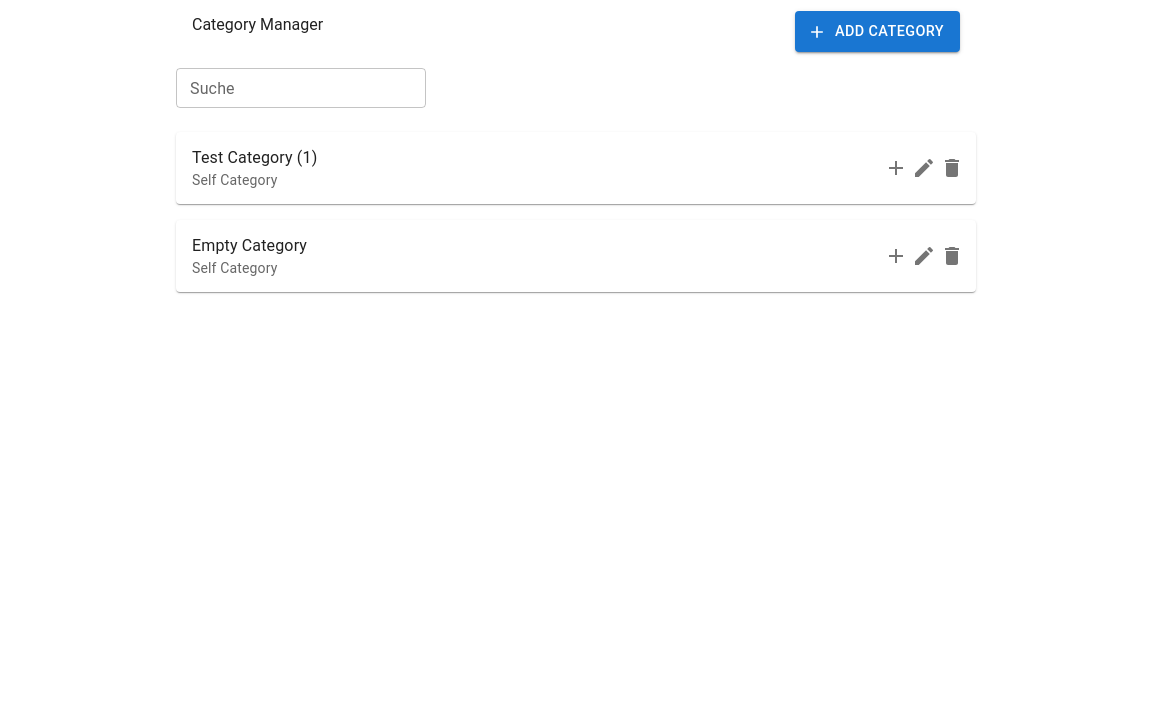
Scenario: CategoryManager › Renaming Categories and Items › should open edit dialog for category
Click the button with test id "EditIcon" at {"x": 924, "y": 168}, box [904,148,944,188]
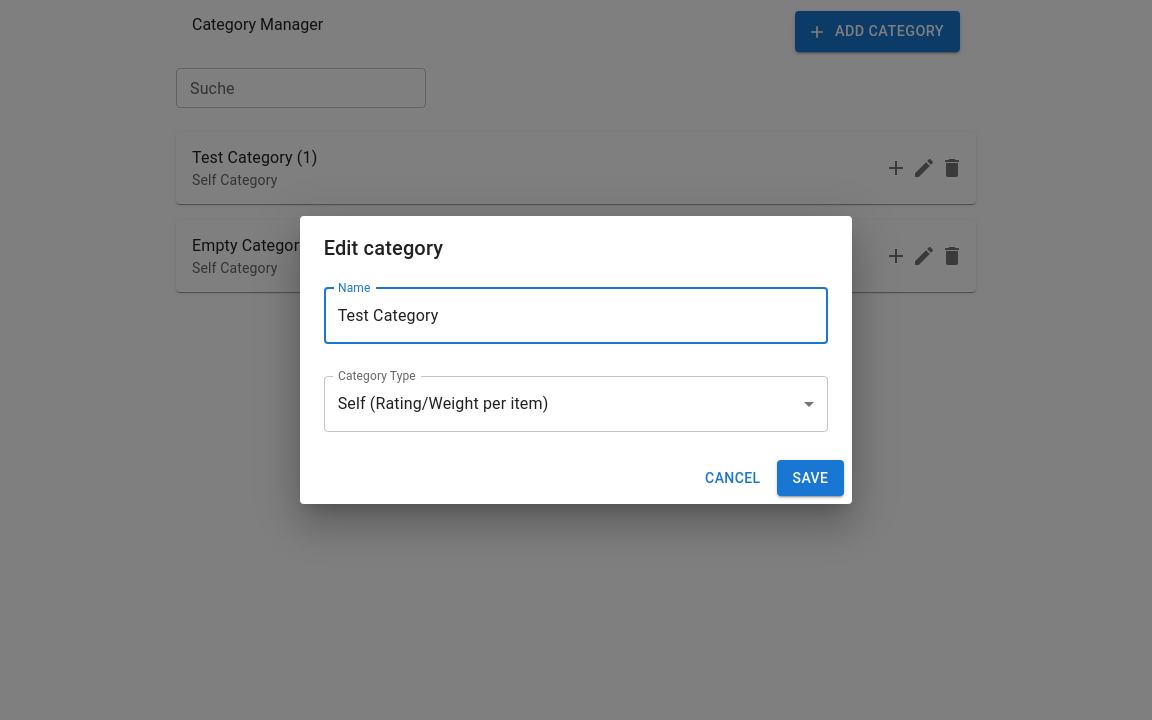
Check: the heading "Edit category" is shown, box [324,236,443,260]
Check: the field showing "Test Category" is shown, box [324,288,828,344]
